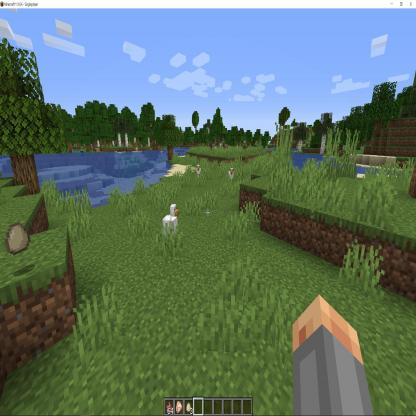minecraft-pigs: (196, 186, 241, 284)
